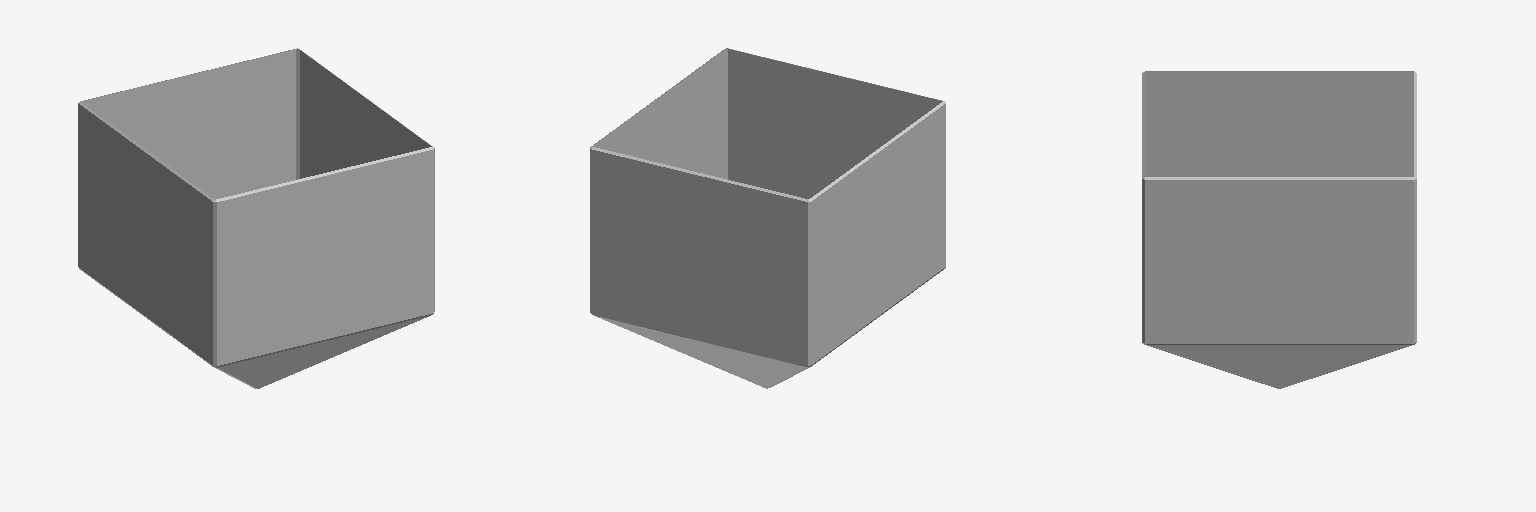
Rendered from sportscomplex.obj.
3 renders of one model, left to right at view 1: azimuth 30°, elevation 25°; view 2: azimuth 150°, elevation 25°; view 3: azimuth 270°, elevation 25°, orthographic.
Bounding box in the file's own units: 2.24 × 2.54 × 2.4.